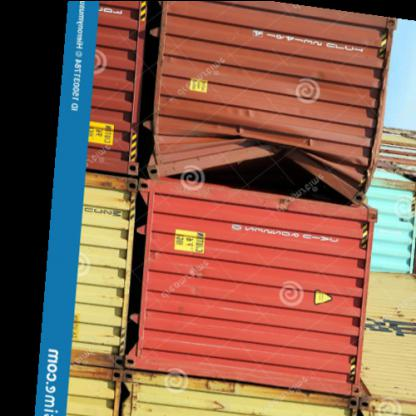Damage: (164, 156, 358, 212)
